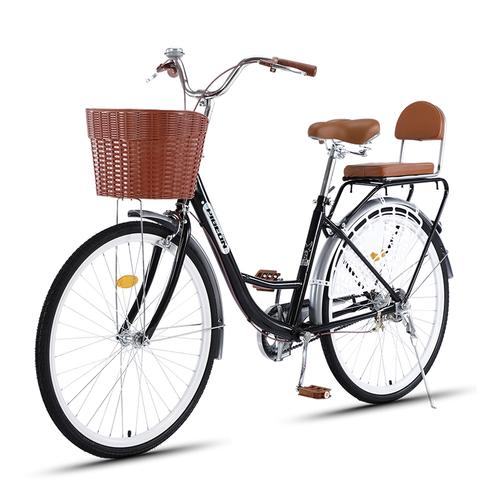单车: (33, 18, 480, 461)
